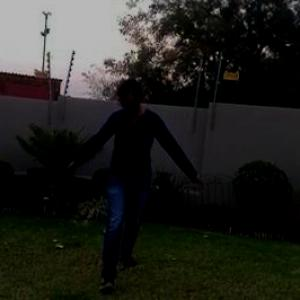land: (62, 80, 203, 291)
